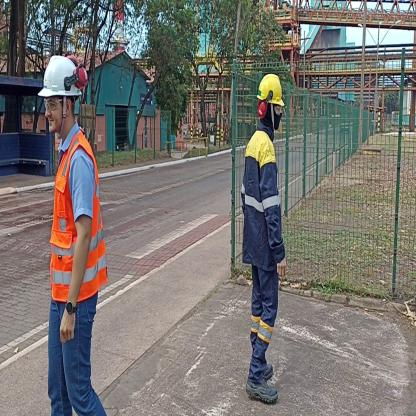Balaclava: (258, 98, 286, 144)
C_eletrica: (243, 134, 285, 274)
Capacete: (38, 52, 84, 99), (257, 75, 287, 107)
colete: (49, 142, 107, 301)
